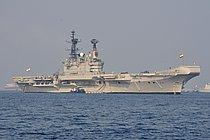MIL_Ship: (12, 30, 200, 94)
